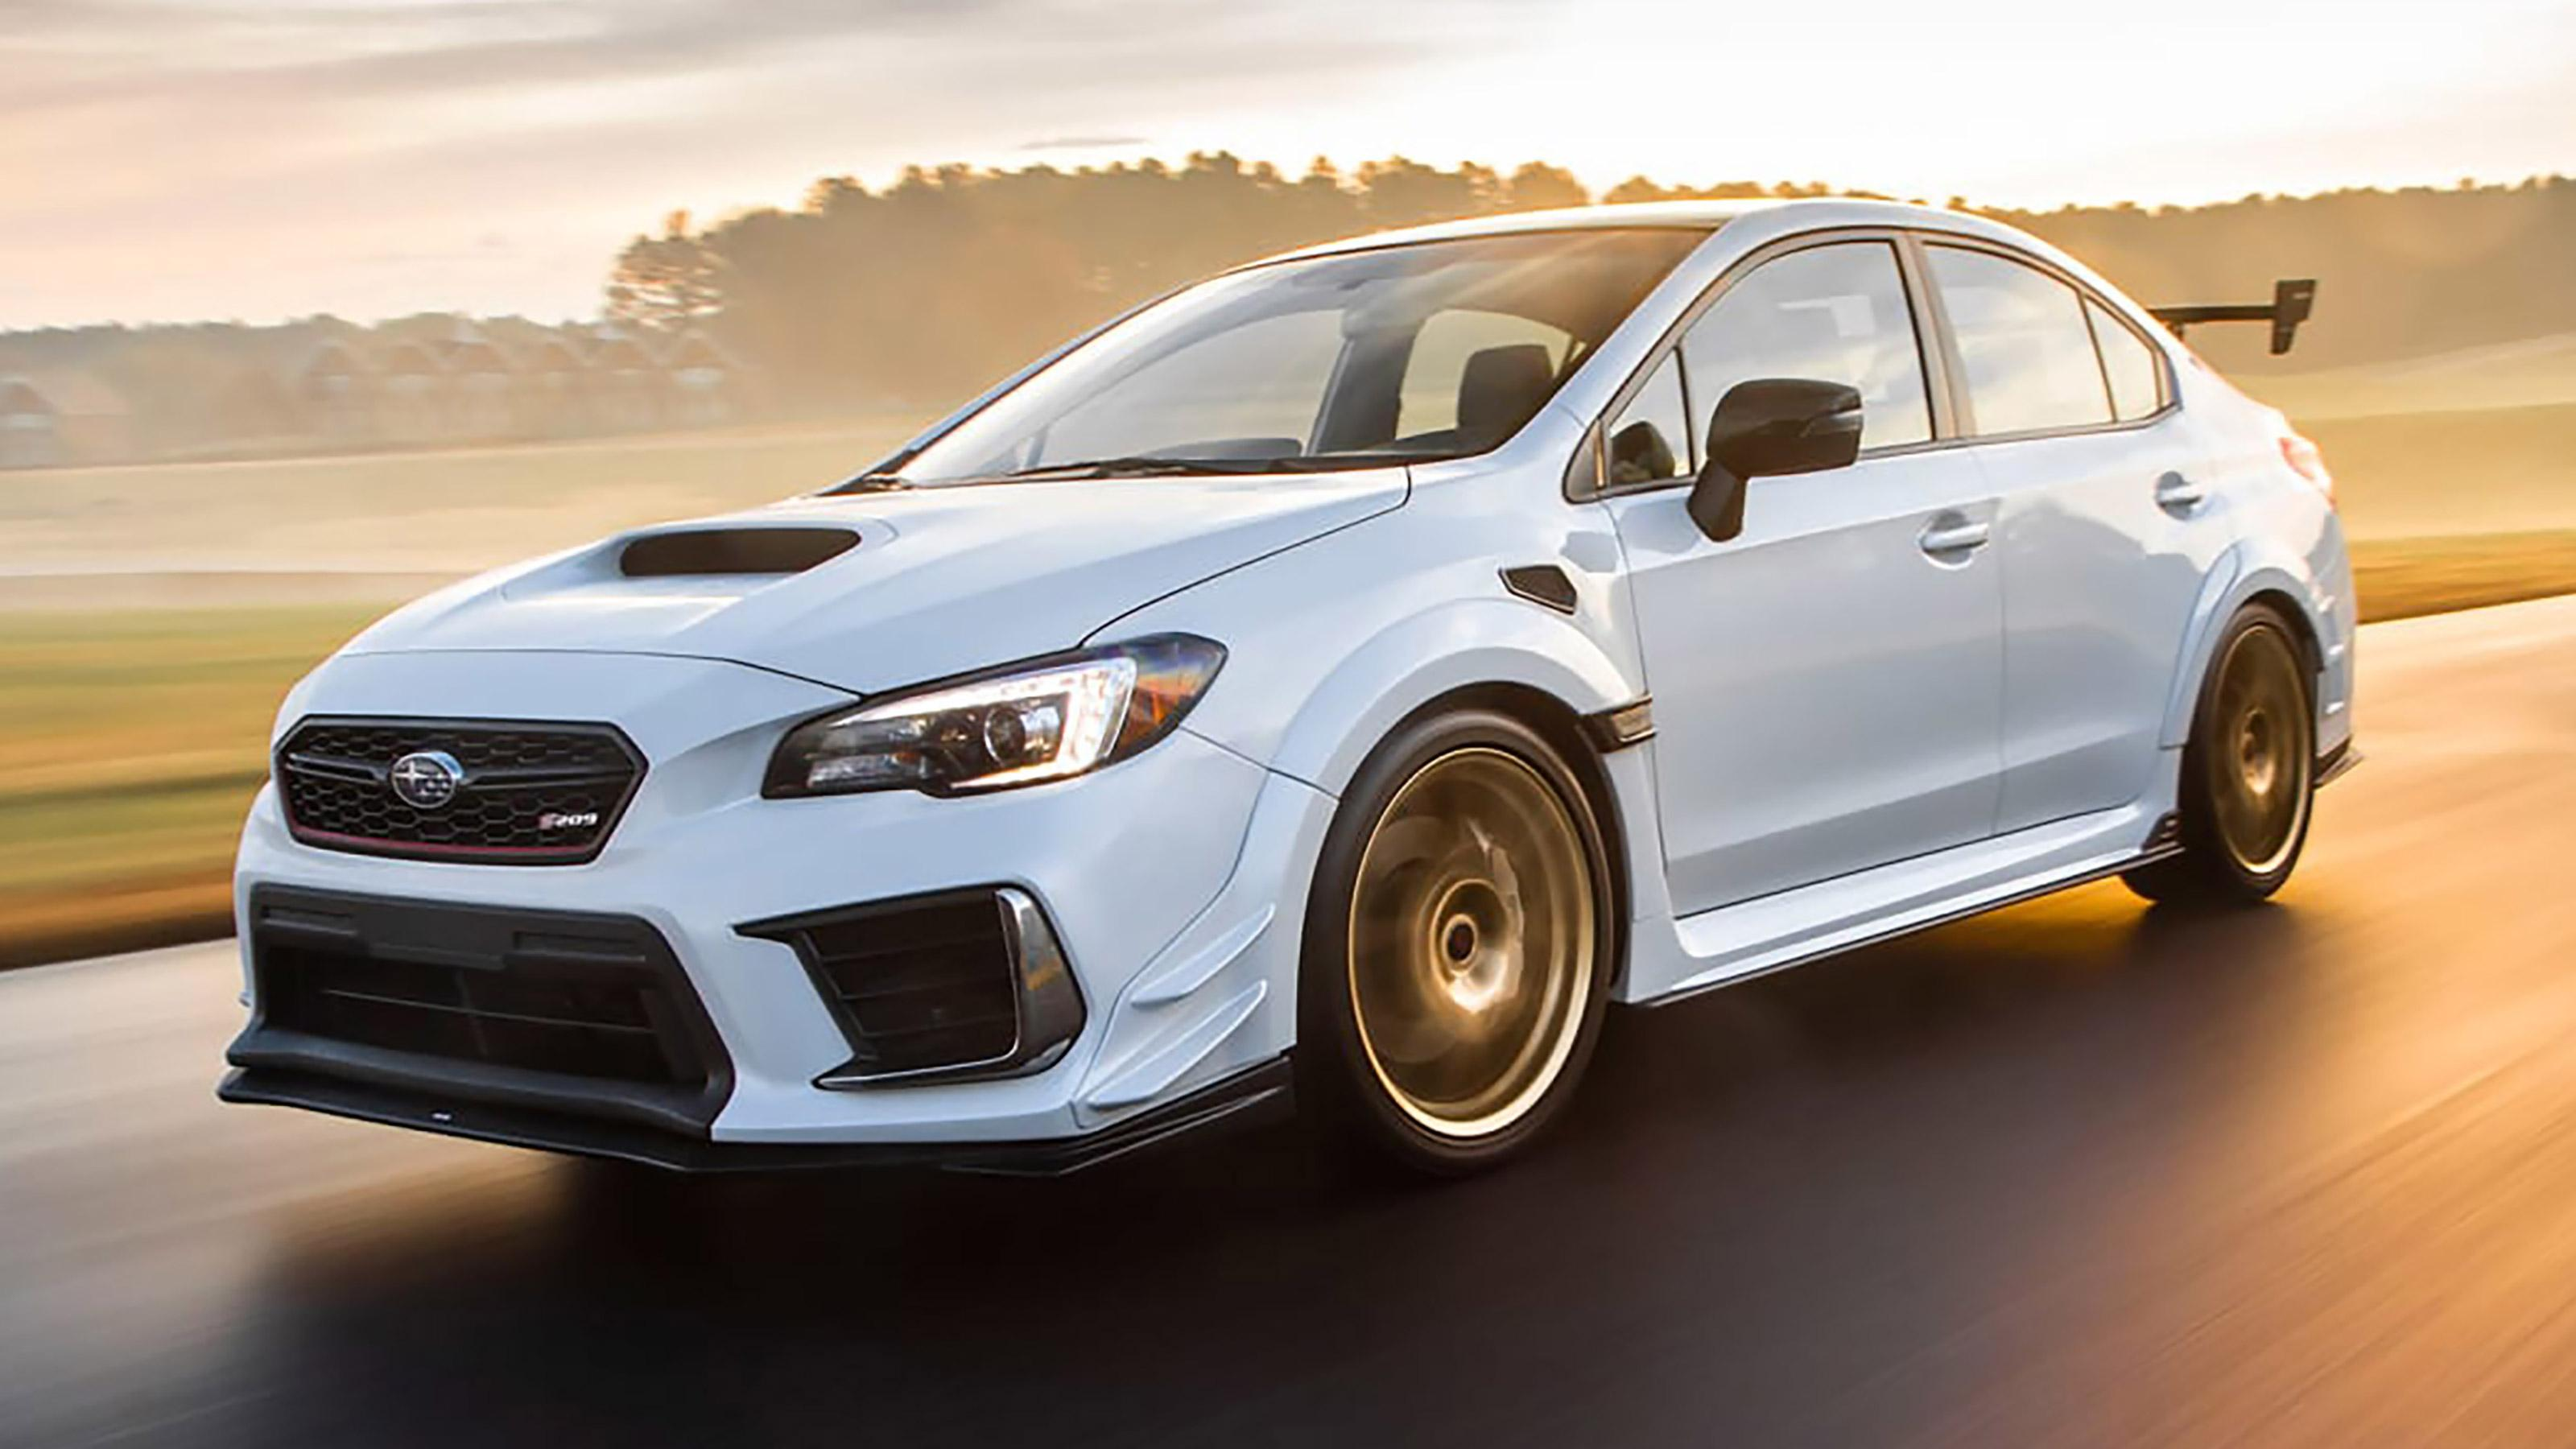subaru: (372, 738, 478, 817)
